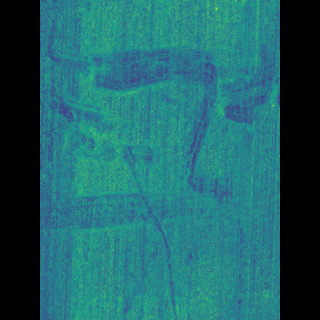Loch: (173, 37, 250, 208), (129, 145, 182, 319), (71, 32, 210, 98), (77, 92, 160, 177)
